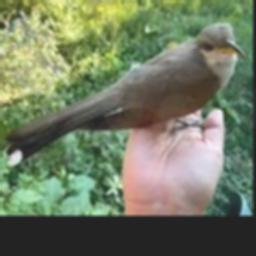Cuckoo: (5, 22, 245, 166)
